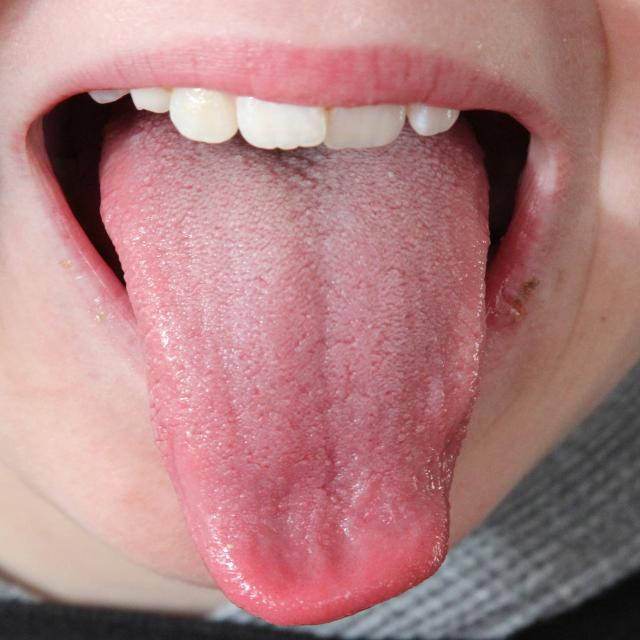baitaishe: (96, 151, 489, 628)
hongshe: (95, 151, 488, 628)
